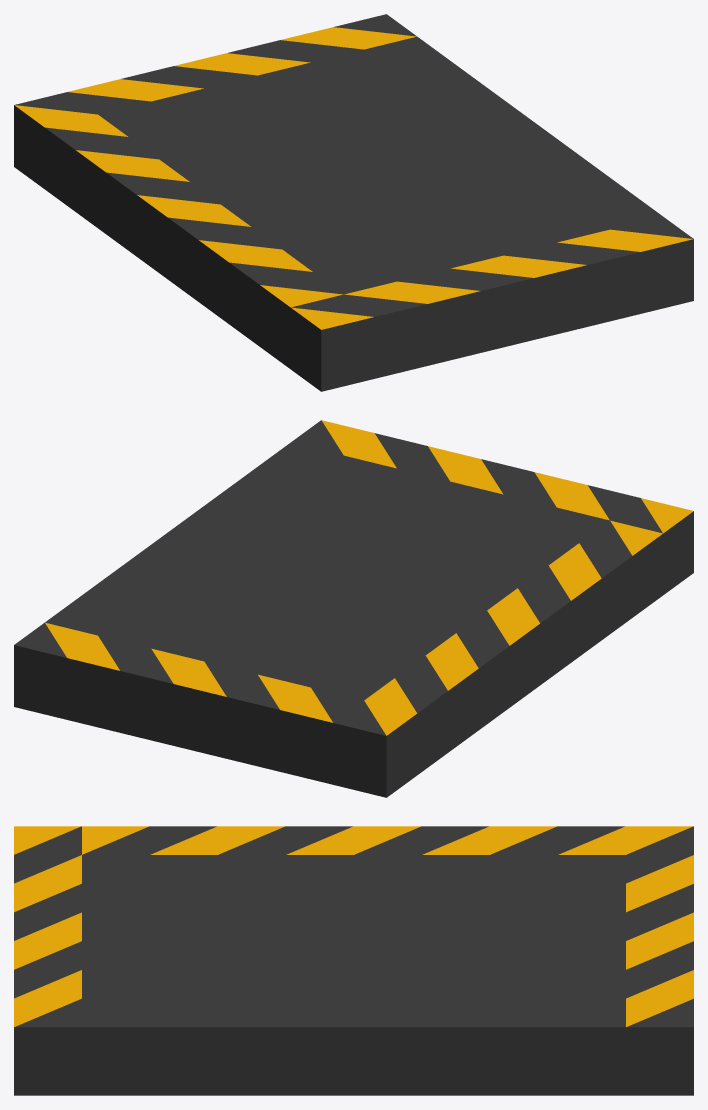
3 renders of one model, top to bottom at view 1: azimuth 30°, elevation 25°; view 2: azimuth 150°, elevation 25°; view 3: azimuth 270°, elevation 25°, orthographic. The views are drawn at different scales.
Visible parts, largest first — view 1: r3; view 2: r3; view 3: r3.
Part boxes in pixels (x1,y1,x2,y2): r3: (14, 14, 693, 391); r3: (14, 420, 693, 797); r3: (14, 826, 693, 1095).
Size of the model in its own units: 6.3 by 1 by 9.
